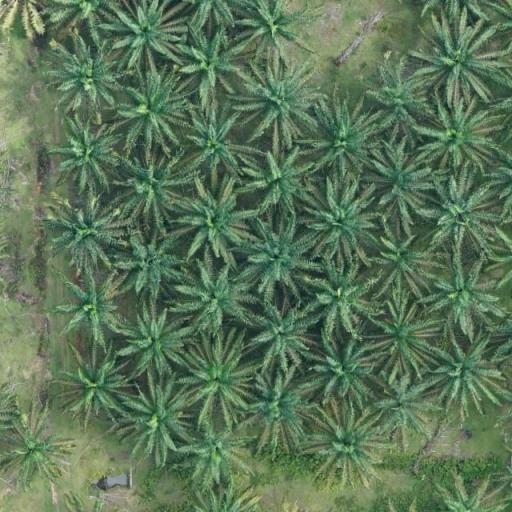Ganoderma: (10, 429, 56, 472)
